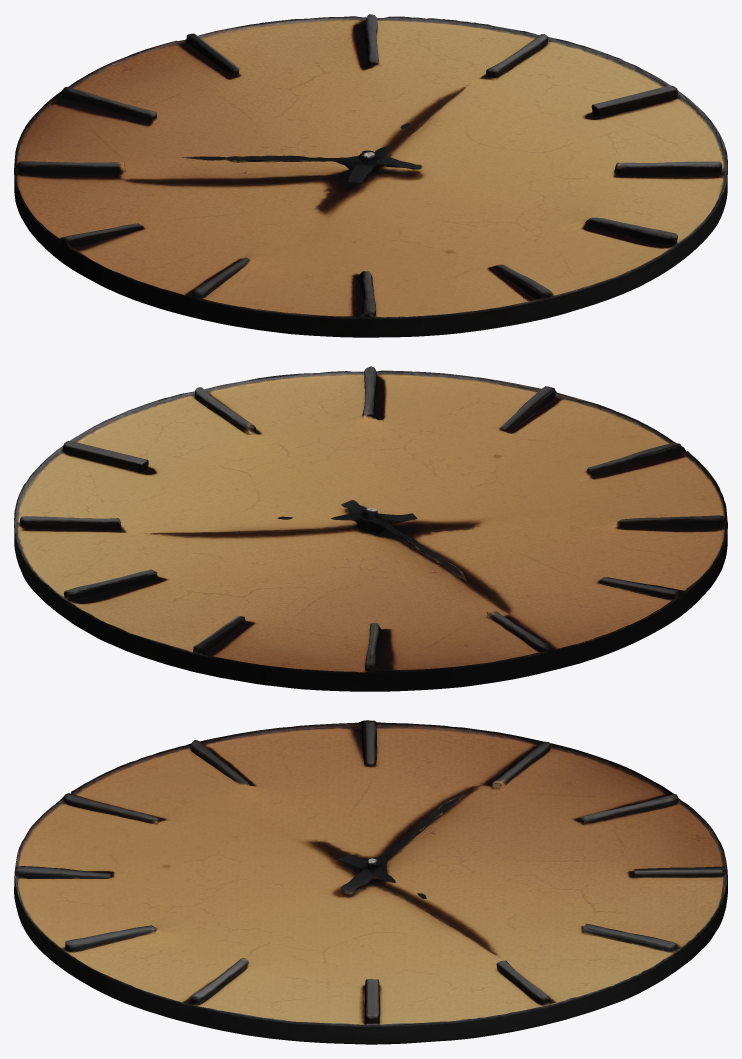
Rendered from cork-wall-clock-3d.jpeg.glb.
The picture shows the model from 3 angles, top to bottom: view 1: azimuth 30°, elevation 25°; view 2: azimuth 150°, elevation 25°; view 3: azimuth 270°, elevation 25°; orthographic projection.
Parts seen in each view (by area): view 1: world; view 2: world; view 3: world.
Part boxes in pixels (box(x1,y1,x2,y2)): world: box(14, 14, 727, 337); world: box(14, 366, 727, 691); world: box(14, 720, 727, 1044).
Size of the model in its own units: 1 by 0.0512 by 1.
1 material, 1 textured.
